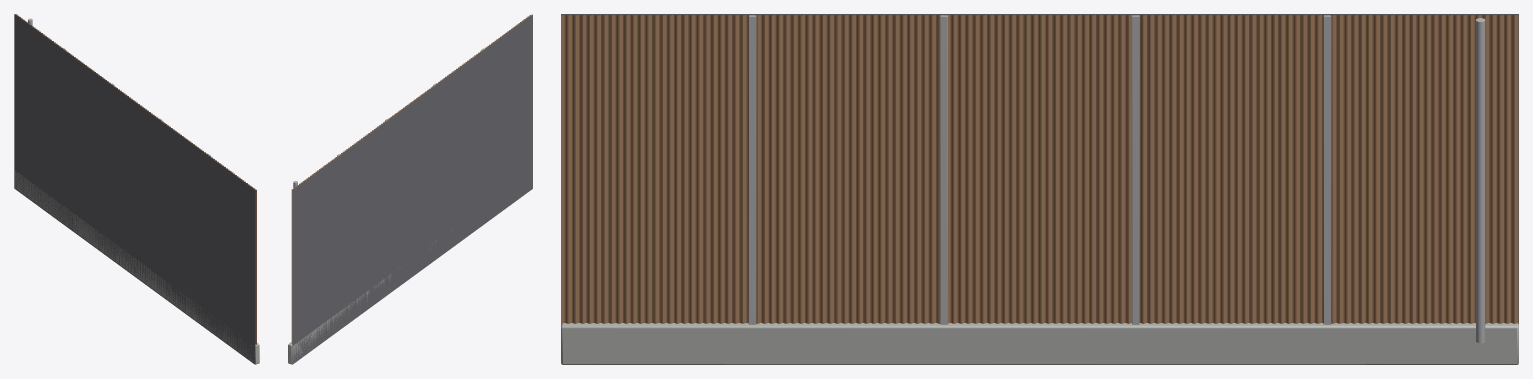
File: side_ground_warehouse_10.glb
The picture shows the model from 3 angles, left to right: view 1: azimuth 30°, elevation 25°; view 2: azimuth 150°, elevation 25°; view 3: azimuth 270°, elevation 25°; orthographic projection. The views are drawn at different scales.
Visible parts, largest first — view 1: side_ground_warehouse_10; view 2: side_ground_warehouse_10; view 3: side_ground_warehouse_10.
Part boxes in pixels (x1=…): side_ground_warehouse_10: x1=14, y1=14, x2=259, y2=364; side_ground_warehouse_10: x1=288, y1=14, x2=532, y2=364; side_ground_warehouse_10: x1=561, y1=14, x2=1518, y2=364.
Size of the model in its own units: 0.2 by 4 by 10.
